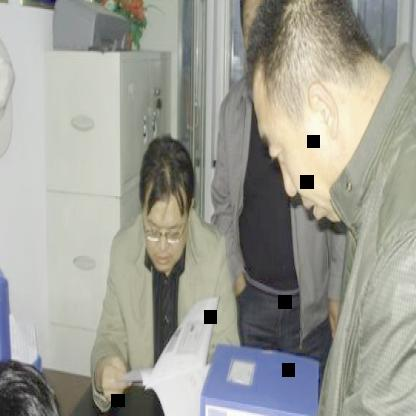head: (244, 0, 388, 217), (136, 129, 198, 274)
